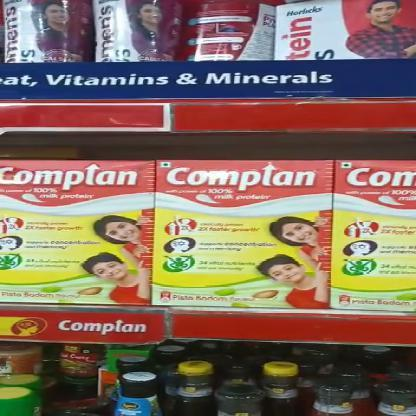Complan Pista Badam: (155, 162, 330, 304), (0, 158, 154, 301)
